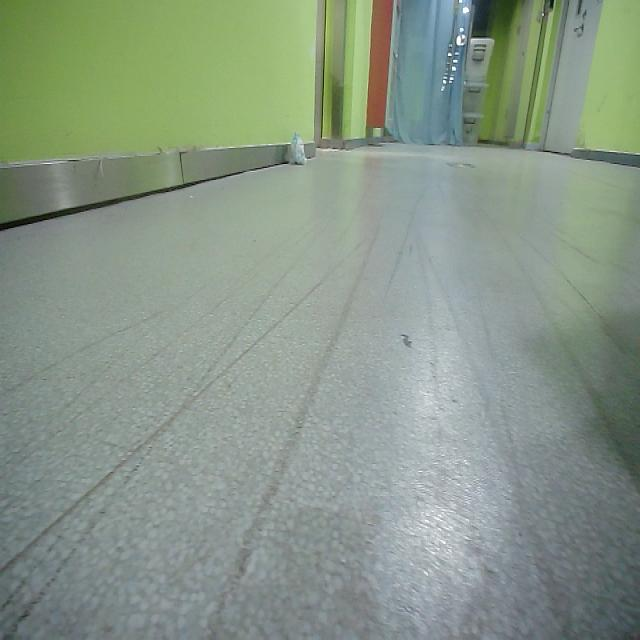xiaoba: (291, 129, 306, 170)
